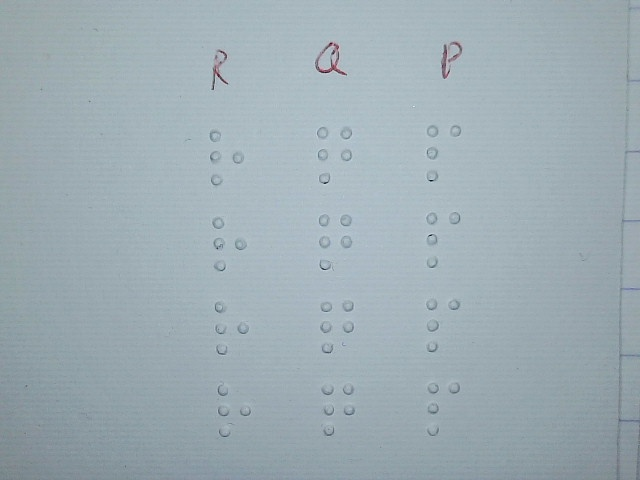P: (425, 123, 462, 182), (425, 209, 462, 268), (425, 296, 461, 353), (425, 379, 461, 436)
Q: (316, 125, 353, 184), (317, 212, 354, 271), (319, 298, 355, 353), (321, 381, 355, 436)
R: (209, 127, 246, 186), (212, 215, 248, 271), (214, 299, 250, 355), (216, 382, 252, 438)
